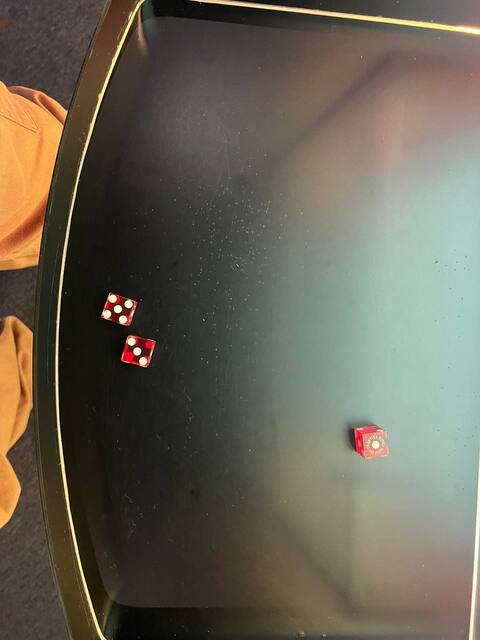five: (98, 288, 141, 331)
one: (357, 427, 392, 462)
three: (117, 333, 159, 371)
